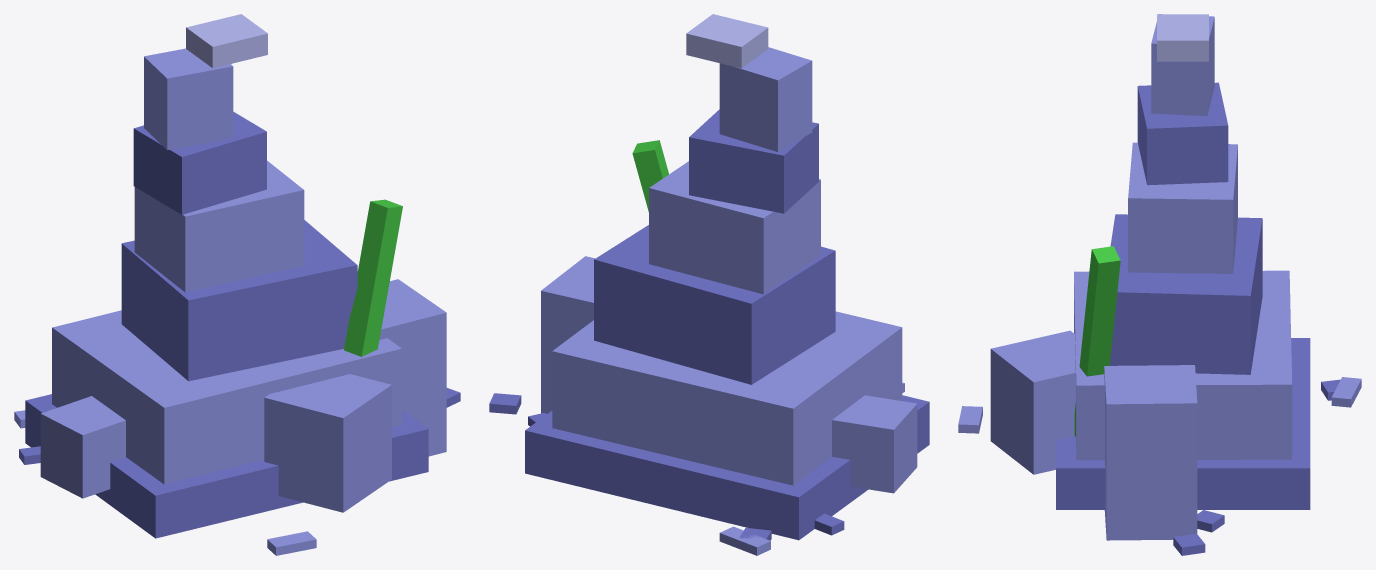
File: RockSpire.fbx
3 renders of one model, left to right at view 1: azimuth 30°, elevation 25°; view 2: azimuth 150°, elevation 25°; view 3: azimuth 270°, elevation 25°, orthographic. The views are drawn at different scales.
Visible parts, largest first — view 1: RockBlue.002, RockBlueDark.001, LeafGreen.003, RockTop.001; view 2: RockBlue.002, RockBlueDark.001, RockTop.001, LeafGreen.003; view 3: RockBlue.002, RockBlueDark.001, LeafGreen.003, RockTop.001.
Boxes of the visible parts, box(x1,y1,x2,y2) form: RockBlue.002: box(14, 48, 446, 555); RockBlueDark.001: box(19, 111, 460, 538); LeafGreen.003: box(344, 199, 402, 356); RockTop.001: box(186, 14, 267, 68); RockBlue.002: box(541, 47, 917, 555); RockBlueDark.001: box(489, 109, 929, 540); RockTop.001: box(686, 14, 768, 68); LeafGreen.003: box(632, 140, 668, 211); RockBlue.002: box(958, 14, 1361, 540); RockBlueDark.001: box(1056, 82, 1340, 555); LeafGreen.003: box(1074, 246, 1120, 436); RockTop.001: box(1157, 14, 1208, 61).
Size of the model in its own units: 11.98 by 12.23 by 10.47.
